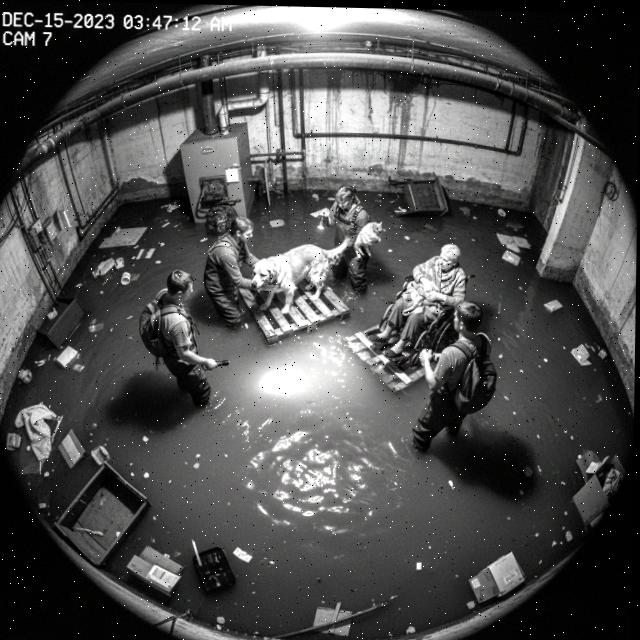cat: (353, 215, 386, 262)
civilian: (415, 298, 505, 465), (367, 239, 479, 368), (136, 266, 229, 418), (199, 215, 260, 331)
dog: (248, 236, 349, 318)
rescuer: (319, 183, 376, 300)
